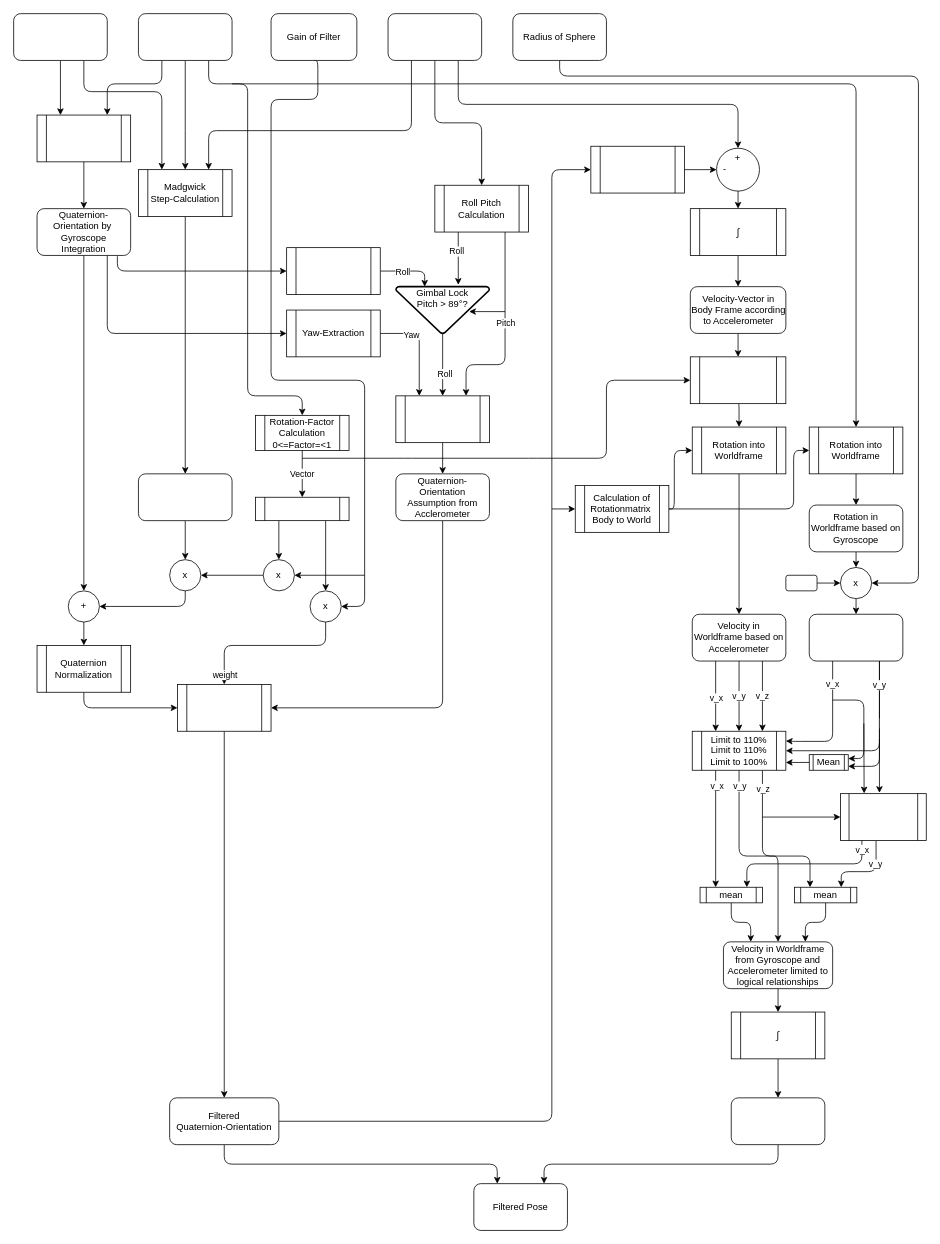
Some shapes in this 940 by 1244 pixel diagram are drawn without their labels. The shapes that lost their labels are listed below. From the top down, each one's centre as x and y in pixels, then its label:
(60,36): Last Attitude
(185,36): Gyroscope Measurment
(434,36): Accelerometer Measurement
(83,138): Gyroscope Integration
(637,169): Gravitation-Vector Calculation
(333,270): Roll-Extraction
(738,380): Multiplication with factor of the other two other axis
(442,419): RPY to Quatenion
(185,497): Change of Quaternion by Madgwick
(302,508): Max Component Max 1-Max
(801,582): 2π
(855,637): Velocity in Worldframe based on Gyroscope
(224,707): Quaternion Slerp-Algorithm with weight
(883,816): Vertical Speed Component Calculation
(777,1121): Filterd Position
